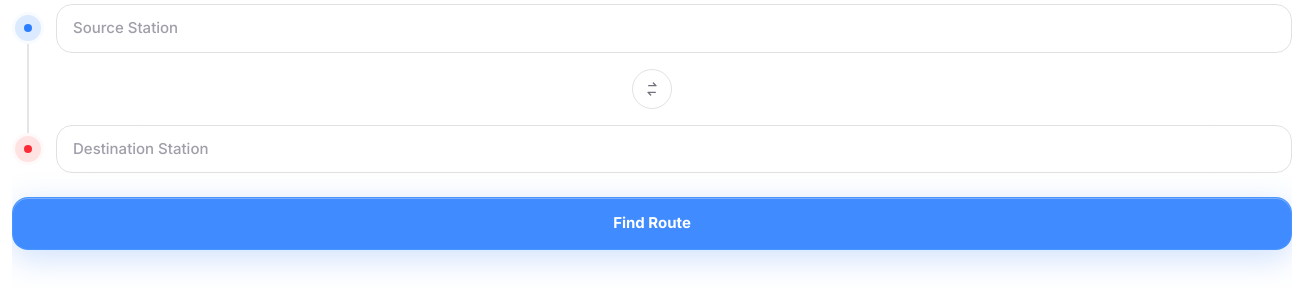
Test: RouteVisualizer › allows swapping the source and destination contents
Type "SourceA" into the field with placeholder "Source Station" at [674, 28], box [56,4,1292,52]
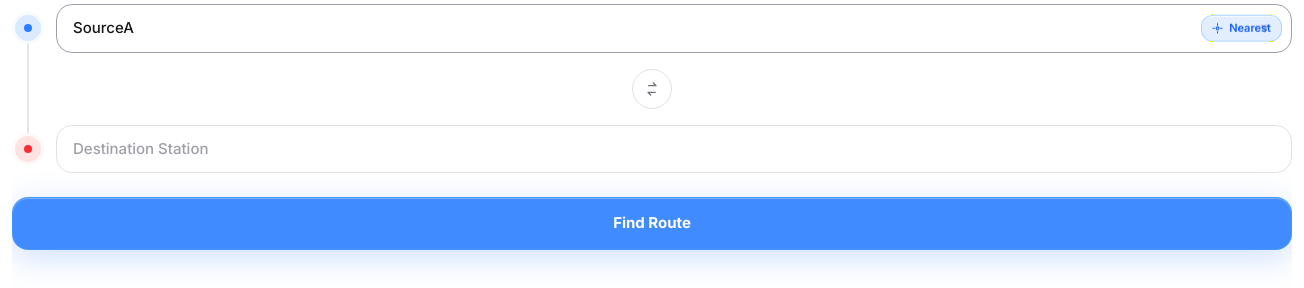
Type "DestB" into the field with placeholder "Destination Station" at [674, 149], box [56,124,1292,173]
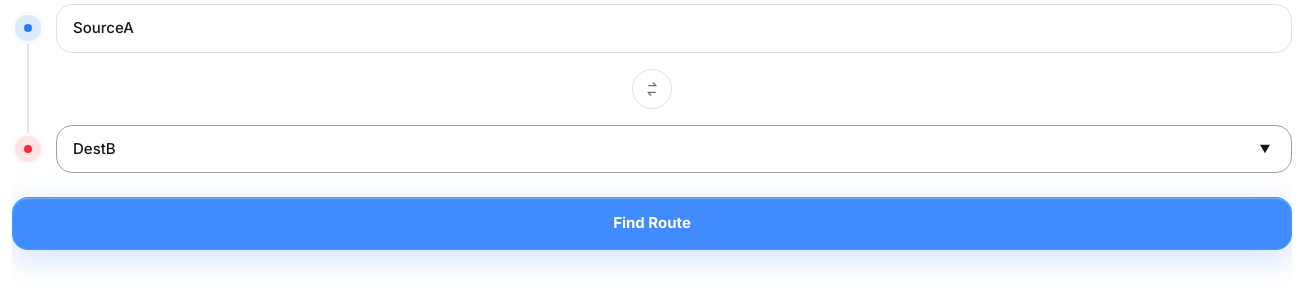
Click the 1st button at [652, 88], box [632,68,672,108]
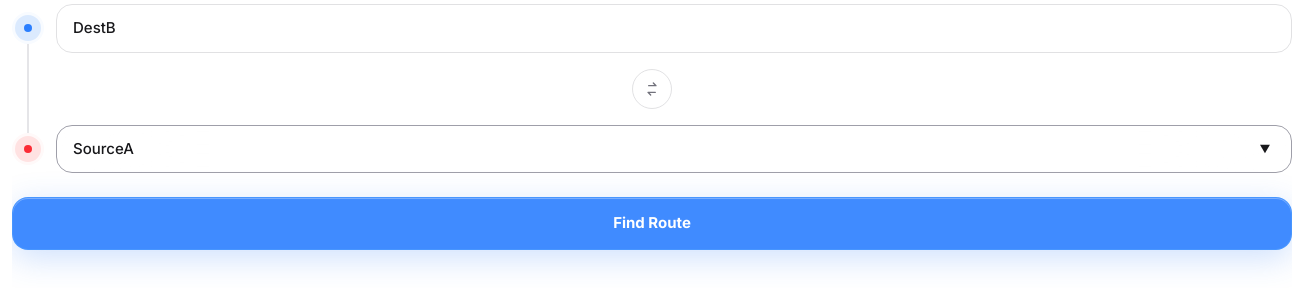
Check: the 1st field with placeholder "Source Station" holds "DestB", box [56,4,1292,52]
Check: the 2nd field with placeholder "Destination Station" holds "SourceA", box [56,124,1292,173]
